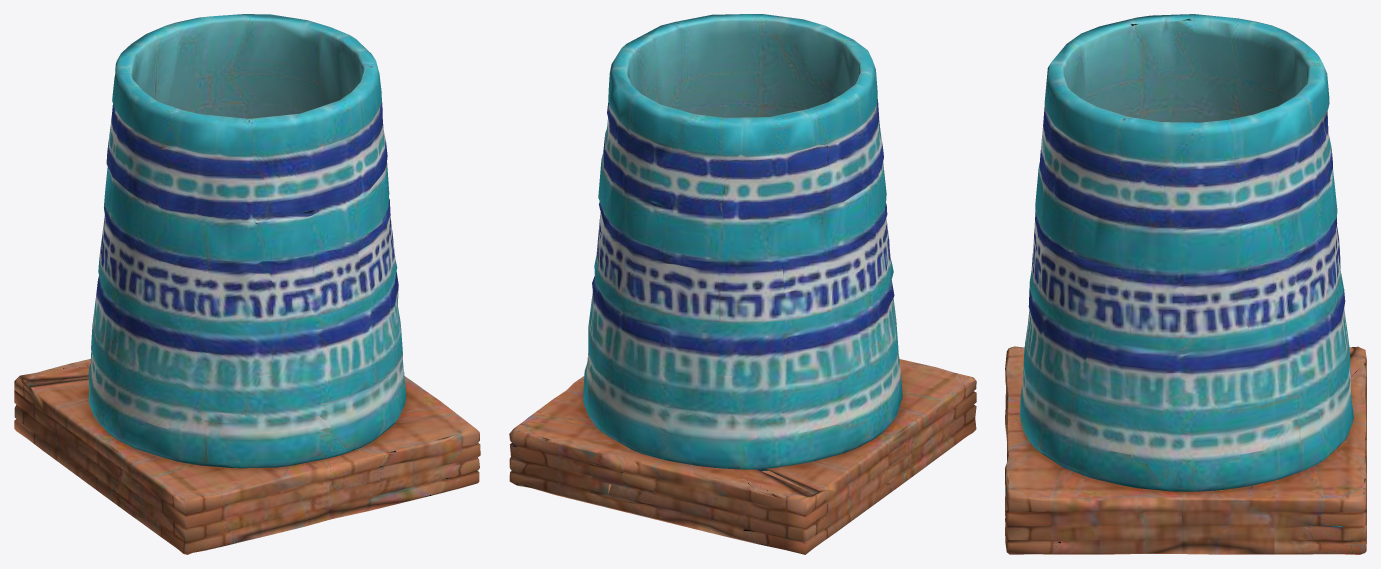
The model's file is kalta.glb.
3 views of the same model, side by side, from view 1: azimuth 30°, elevation 25°; view 2: azimuth 150°, elevation 25°; view 3: azimuth 270°, elevation 25° (orthographic). The views are drawn at different scales.
Visible parts, largest first — view 1: geometry_0; view 2: geometry_0; view 3: geometry_0.
Boxes of the visible parts, x1=… form: geometry_0: x1=14, y1=14, x2=480, y2=554; geometry_0: x1=509, y1=14, x2=976, y2=554; geometry_0: x1=1005, y1=14, x2=1366, y2=554.
Size of the model in its own units: 0.7602 by 0.9507 by 0.7617.
Materials: 1 (1 with a texture image).
